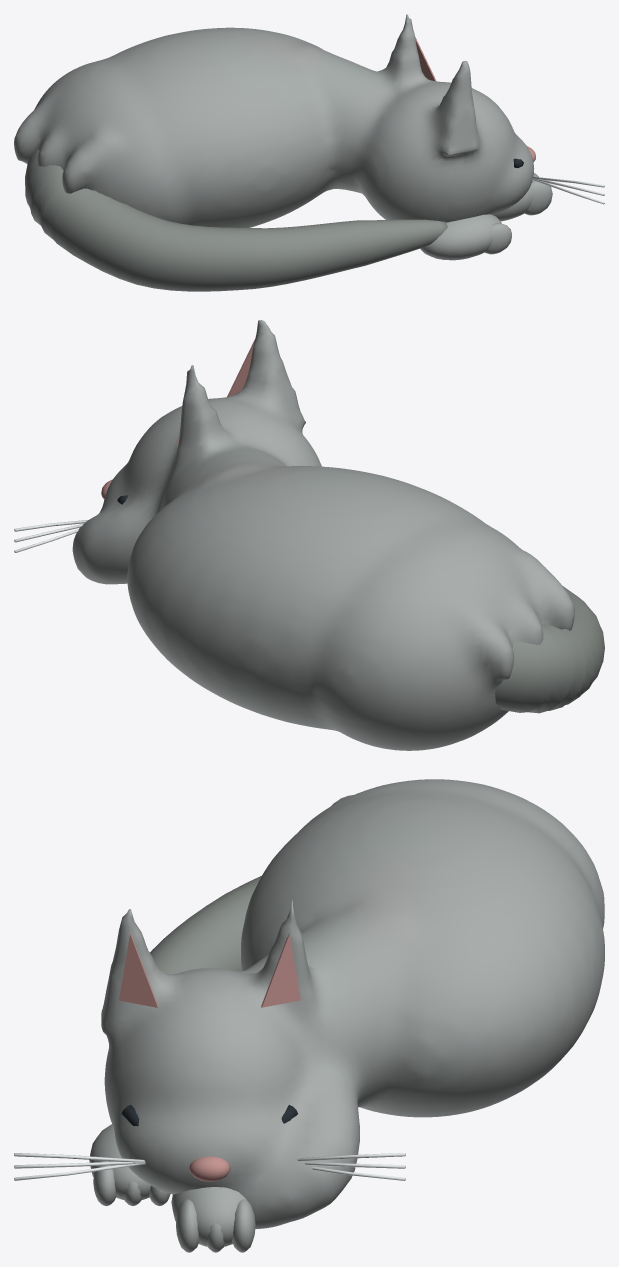
Rendered from nature-cat-sleeping.glb.
3 views of the same model, one above another, from view 1: azimuth 30°, elevation 25°; view 2: azimuth 150°, elevation 25°; view 3: azimuth 270°, elevation 25° (orthographic). The views are drawn at different scales.
Parts seen in each view (by area): view 1: Continuous anatomical skin, Separate volumetric wraparound tail, Rounded paw.001, Toe, Toe.003, Rounded paw; view 2: Continuous anatomical skin, Separate volumetric wraparound tail; view 3: Continuous anatomical skin, Separate volumetric wraparound tail, Rounded paw, Rounded paw.001, Pink inner pinna fitted to skin.001, Pink inner pinna fitted to skin, Toe, Toe.002, Pink cat nose, Toe.003.
Part boxes in pixels (x1,y1,x2,y2): Continuous anatomical skin: (14,14,534,227); Separate volumetric wraparound tail: (25,149,447,291); Rounded paw.001: (420,214,501,260); Toe: (524,181,552,215); Toe.003: (484,223,511,254); Rounded paw: (493,173,538,221); Continuous anatomical skin: (72,320,574,750); Separate volumetric wraparound tail: (495,586,604,713); Continuous anatomical skin: (101,779,604,1228); Separate volumetric wraparound tail: (150,876,261,974); Rounded paw: (171,1187,246,1246); Rounded paw.001: (89,1124,150,1199); Pink inner pinna fitted to skin.001: (261,933,300,1007); Pink inner pinna fitted to skin: (119,934,158,1007); Toe: (176,1199,199,1252); Toe.002: (232,1199,255,1252); Pink cat nose: (189,1156,230,1181); Toe.003: (93,1160,116,1206).
Size of the model in its own units: 0.4211 by 0.18 by 0.3325.
Materials: 5 (5 with a texture image).
